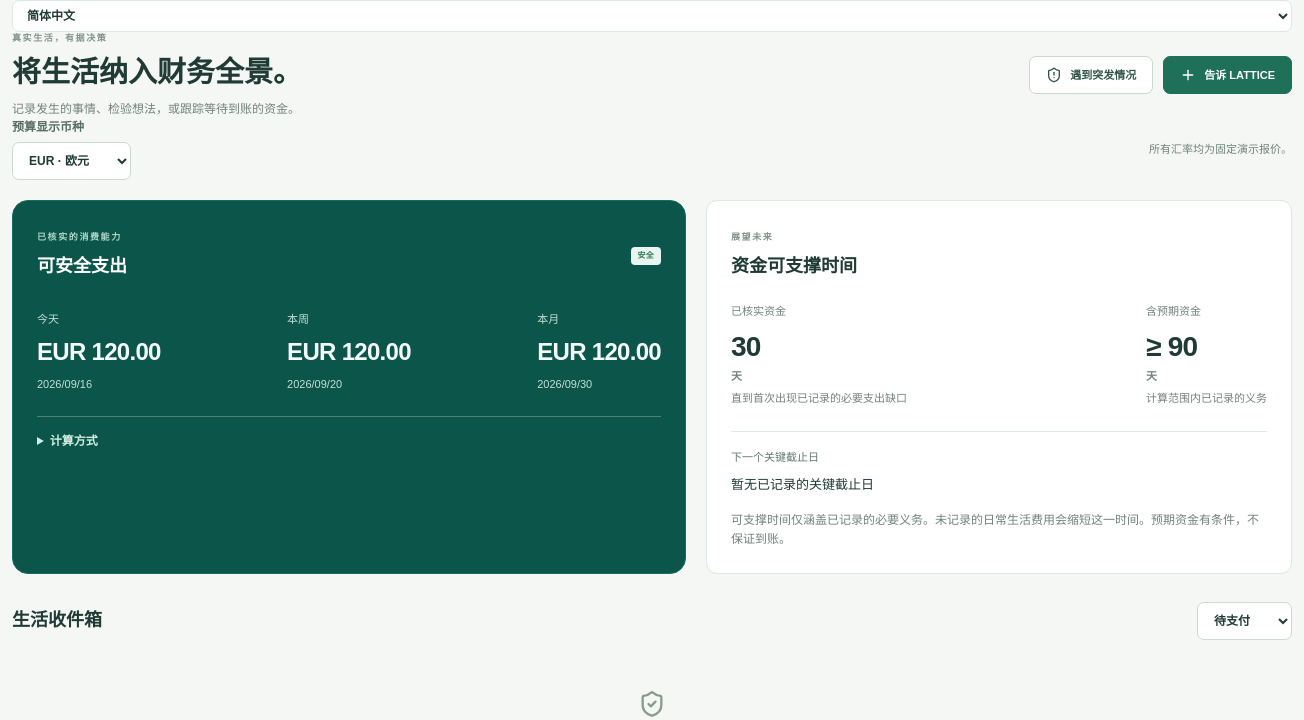
Test case: private life event interface › filters closed records and renders translated inbox controls
Select "All" in the dropdown named "筛选生活事项". click: (1244, 621)
box: [1197,602,1292,640]
(page scrolled)
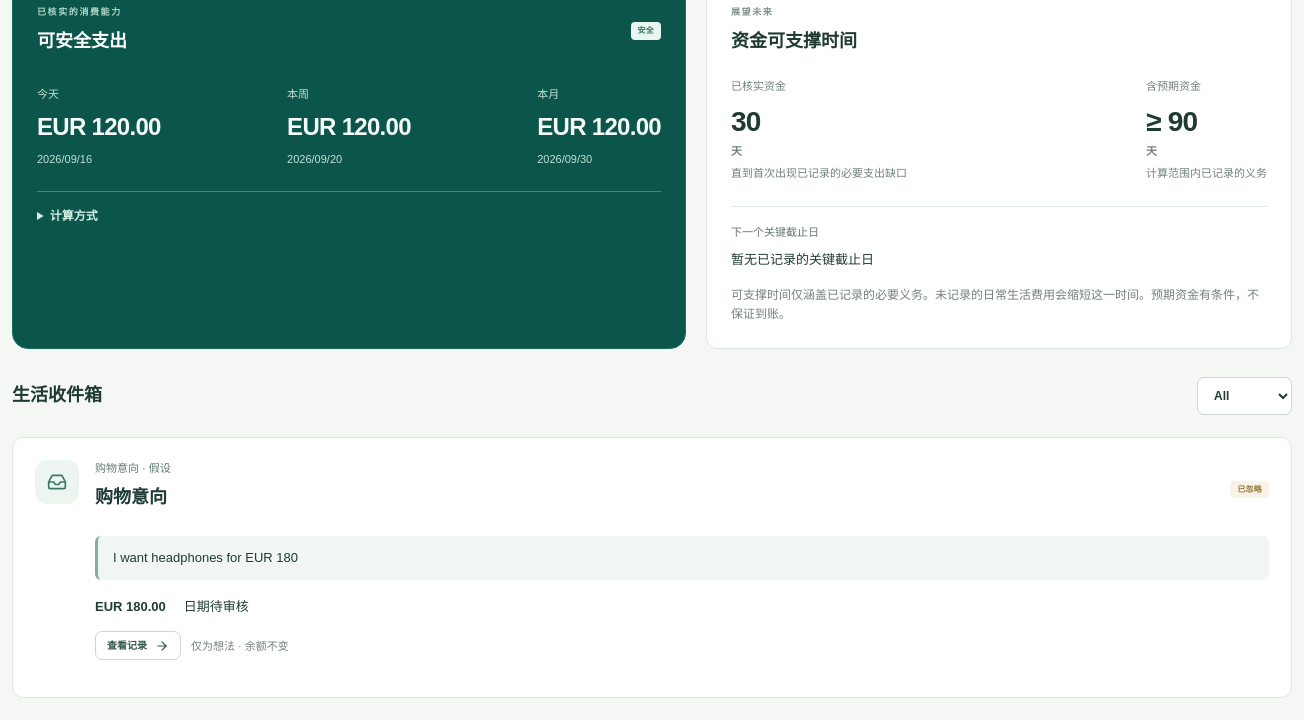
Expected: the button "查看记录" is shown, [95,631,181,660]
Expected: the text "I want headphones for EUR 180" is shown, [95,536,1269,580]
